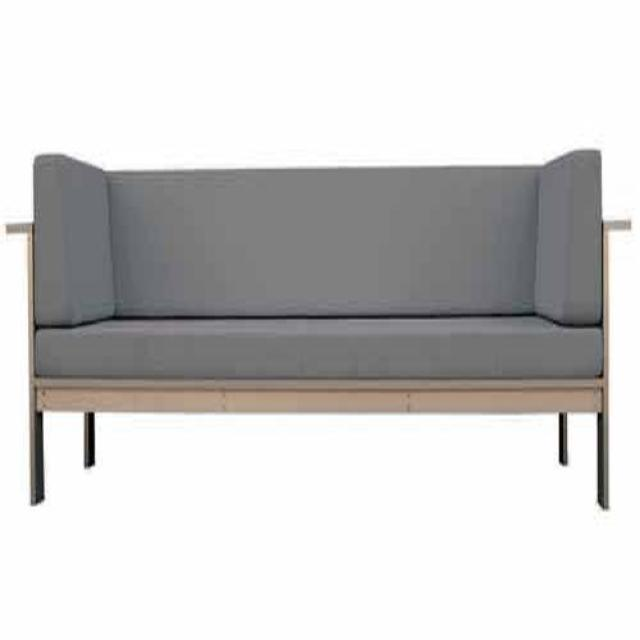sofa: (28, 150, 611, 512)
